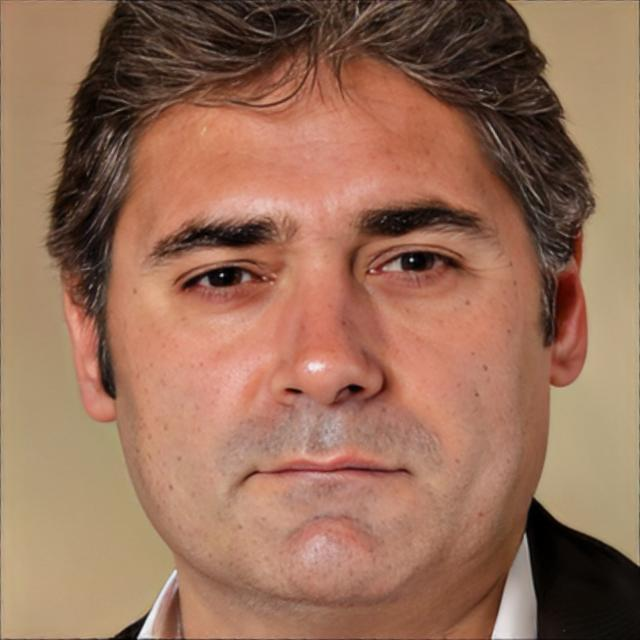sad: (106, 34, 544, 620)
